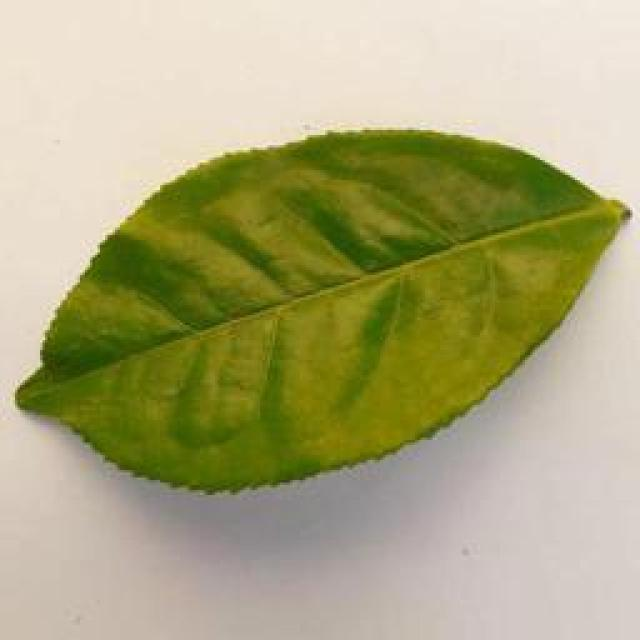Healthy: (11, 116, 626, 497)
